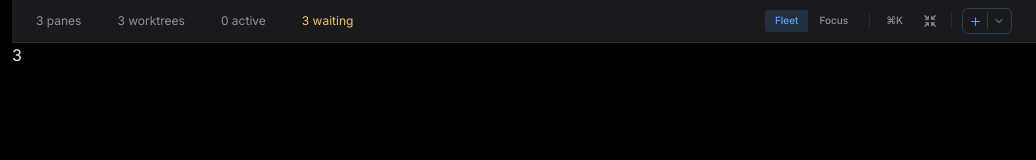
Test: AttentionPeek › rows › shows every waiting pane up to three rows without an overflow row
Click the button with test id "resource-attention-stat". click: (328, 21)
box: left=302, top=13, right=353, bottom=29
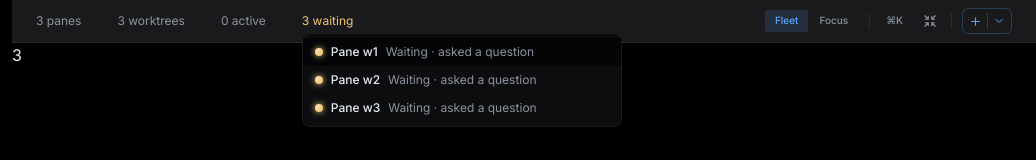
Now the number of menu items with test id "attention-peek-row" is 3, box left=303, top=38, right=621, bottom=66; left=303, top=66, right=621, bottom=94; left=303, top=94, right=621, bottom=122
